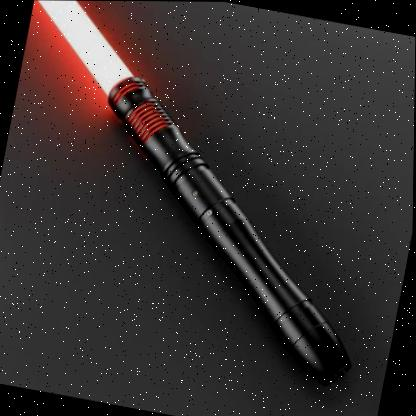sith_lightsaber: (34, 0, 362, 402)
